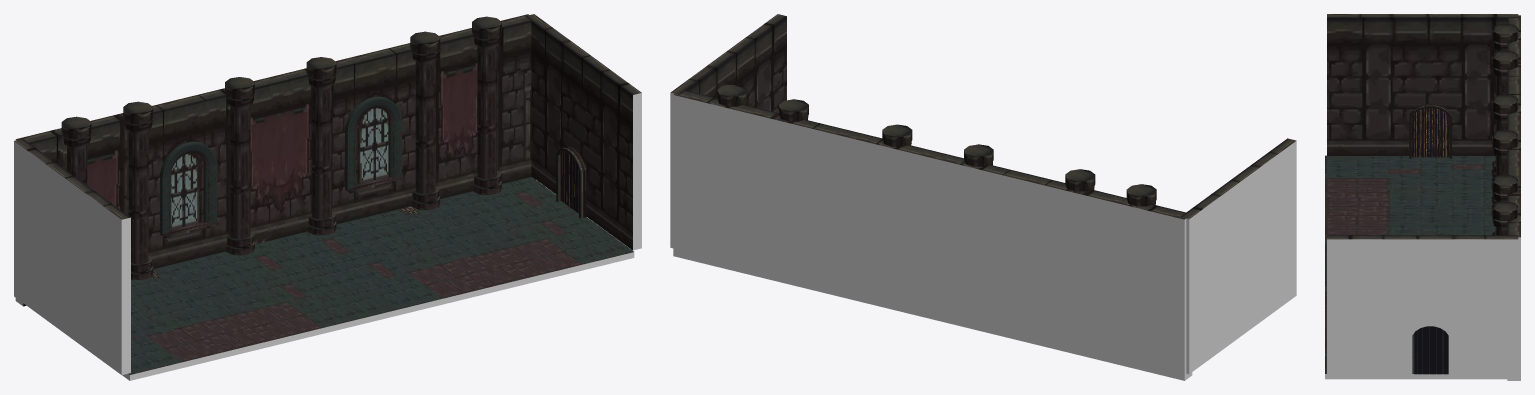
The model's file is tutorial set.fbx.
The picture shows the model from 3 angles, left to right: view 1: azimuth 30°, elevation 25°; view 2: azimuth 150°, elevation 25°; view 3: azimuth 270°, elevation 25°; orthographic projection. The views are drawn at different scales.
Visible parts, largest first — view 1: Plane.001, Plane, Plane.002, Plane.010, Plane.008, Plane.004, Plane.009, Plane.007, Plane.005, Cube.003, Cube.006, Plane.006 (+2 smaller); view 2: Plane.001, Plane.002, Plane.010, Plane.005, Plane.006, Plane.009, Plane.007, Plane.004, Plane.008; view 3: Plane.010, Plane.002, Plane, Plane.001, Cylinder.011, Cylinder.004, Plane.005, Plane.007, Plane.004, Plane.009, Cylinder, Plane.006 (+2 smaller).
Boxes of the visible parts, bbox=[...] form: Plane.001: bbox=[15, 14, 535, 306]; Plane: bbox=[122, 177, 634, 380]; Plane.002: bbox=[14, 139, 130, 374]; Plane.010: bbox=[525, 14, 641, 250]; Plane.008: bbox=[410, 31, 440, 209]; Plane.004: bbox=[225, 77, 254, 255]; Plane.009: bbox=[472, 16, 501, 194]; Plane.007: bbox=[306, 57, 336, 235]; Plane.005: bbox=[123, 101, 153, 279]; Cube.003: bbox=[160, 141, 217, 236]; Cube.006: bbox=[345, 96, 401, 190]; Plane.006: bbox=[61, 116, 91, 185]; Plane.001: bbox=[673, 90, 1192, 380]; Plane.002: bbox=[1180, 138, 1296, 374]; Plane.010: bbox=[670, 14, 786, 248]; Plane.005: bbox=[1065, 169, 1095, 191]; Plane.006: bbox=[1126, 184, 1156, 206]; Plane.009: bbox=[717, 84, 747, 106]; Plane.007: bbox=[882, 124, 912, 146]; Plane.004: bbox=[964, 144, 993, 166]; Plane.008: bbox=[779, 99, 808, 121]; Plane.010: bbox=[1327, 235, 1518, 377]; Plane.002: bbox=[1327, 14, 1518, 155]; Plane: bbox=[1325, 155, 1507, 379]; Plane.001: bbox=[1507, 15, 1520, 380]; Cylinder.011: bbox=[1414, 326, 1448, 374]; Cylinder.004: bbox=[1412, 108, 1449, 157]; Plane.005: bbox=[1491, 50, 1518, 204]; Plane.007: bbox=[1491, 129, 1518, 175]; Plane.004: bbox=[1491, 94, 1518, 235]; Plane.009: bbox=[1491, 201, 1518, 235]; Cylinder: bbox=[1420, 108, 1433, 157]; Plane.006: bbox=[1491, 23, 1518, 177].
Bounding box in the file's own units: 1636 × 522 × 601.
